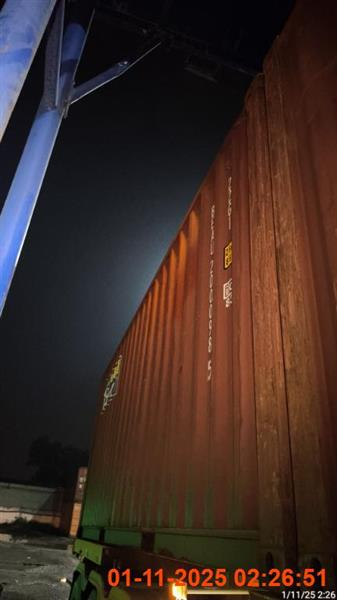broken: (67, 1, 333, 597)
